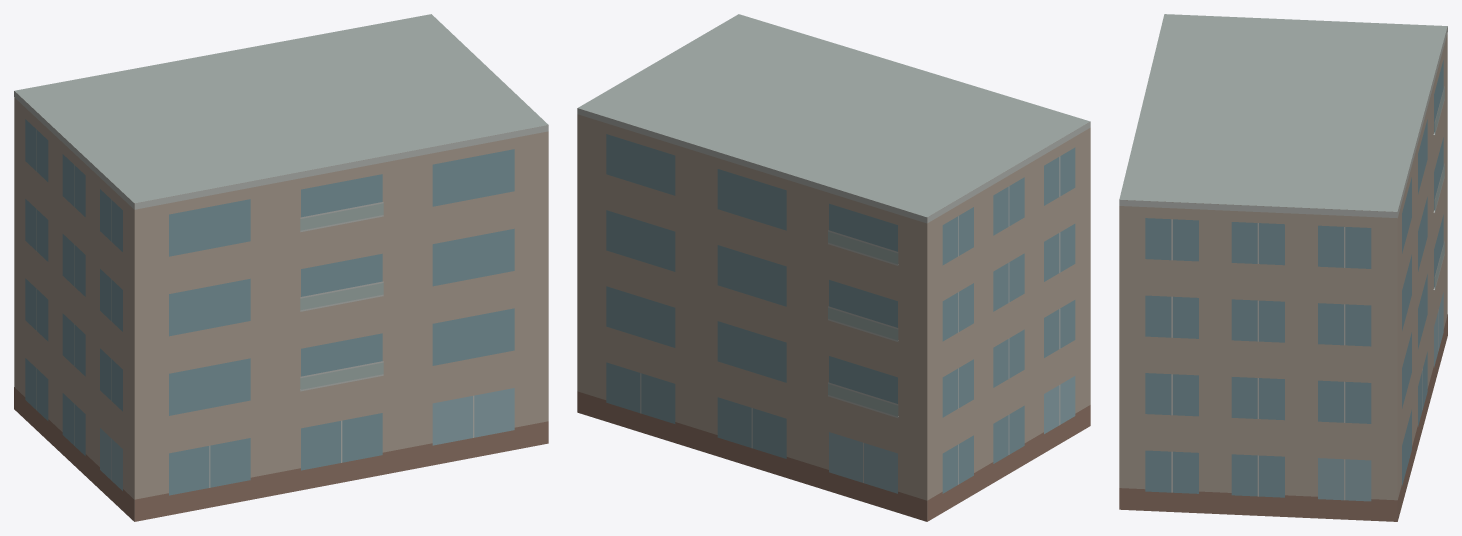
File: survey-upis-32995011.glb
3 renders of one model, left to right at view 1: azimuth 30°, elevation 25°; view 2: azimuth 150°, elevation 25°; view 3: azimuth 270°, elevation 25°, orthographic. The views are drawn at different scales.
Visible parts, largest first — view 1: survey-upis-32995011.tmp; view 2: survey-upis-32995011.tmp; view 3: survey-upis-32995011.tmp.
Boxes of the visible parts, bbox=[...] form: survey-upis-32995011.tmp: bbox=[14, 14, 548, 521]; survey-upis-32995011.tmp: bbox=[577, 14, 1090, 521]; survey-upis-32995011.tmp: bbox=[1119, 14, 1447, 521].
Bounding box in the file's own units: 16.72 × 12.2 × 11.73.
